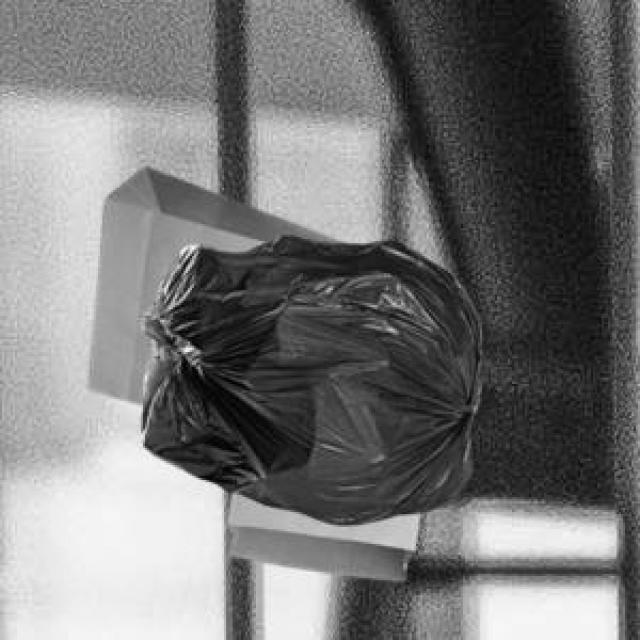miscellaneous trash: (137, 233, 478, 521)
paper: (85, 164, 335, 401), (224, 489, 415, 576)
